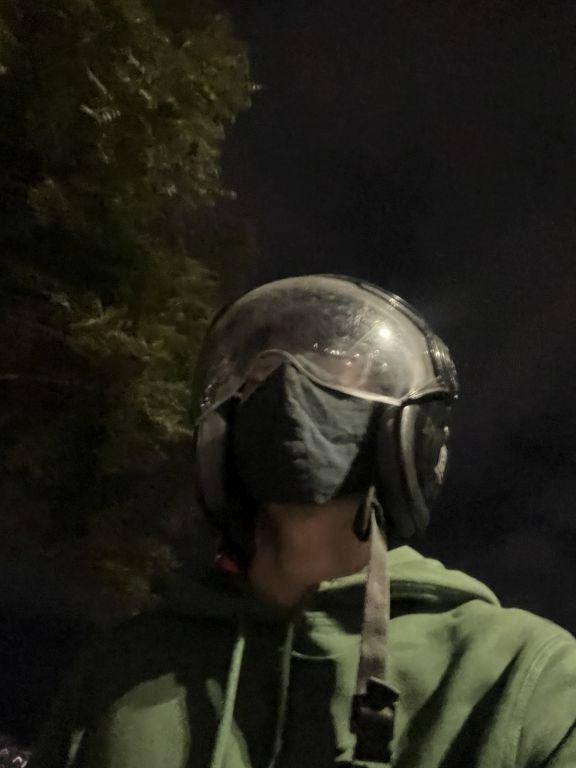helmet: (179, 254, 468, 577)
